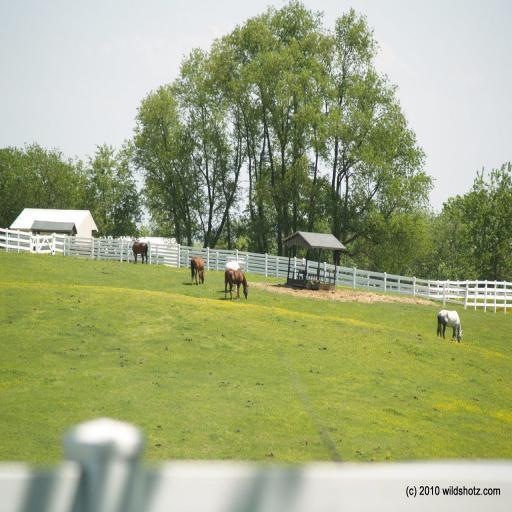horse: (435, 310, 463, 344), (226, 266, 248, 301), (134, 240, 152, 268), (192, 256, 205, 290), (227, 258, 239, 292)
